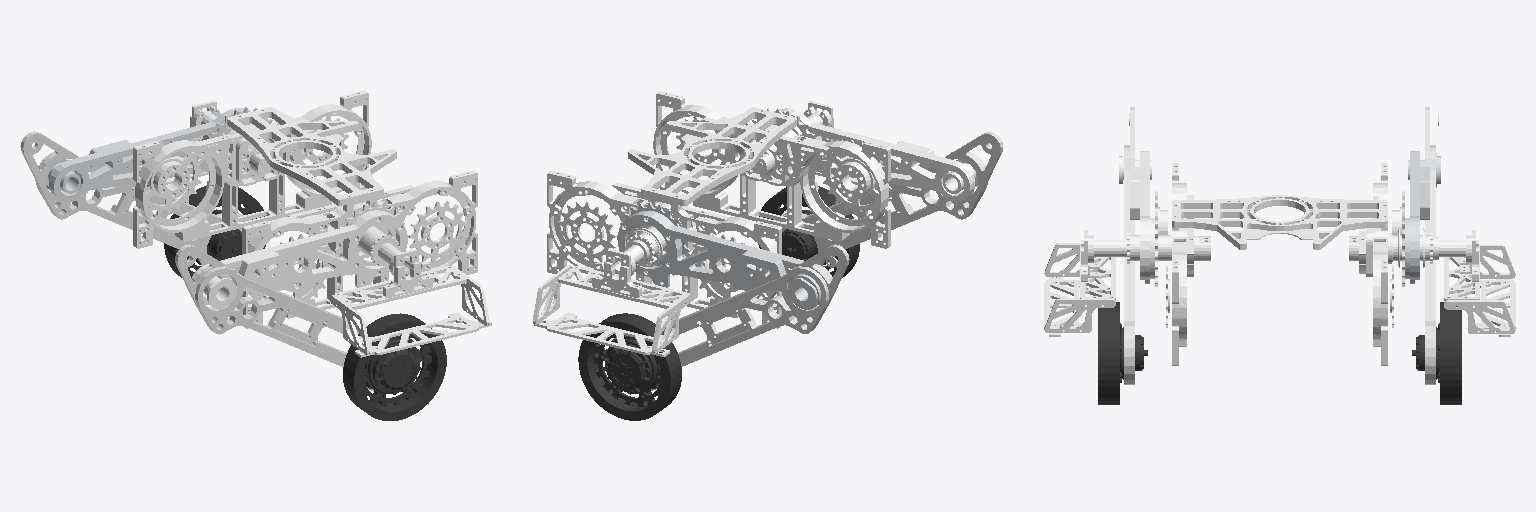
The robot description file, URDF, robot "rl_chassis_v11":
<?xml version="1.0" encoding="utf-8"?>
<!-- rl_chassis_v11 训练用串联模型（自动生成，勿手改：改 make_train_urdf.py）
     只保留后链 base -> rear_link(大腿) -> rear_child1(小腿) -> Wheel；
     前链（曲柄 + child1/2/3 + 两个销）已删除，真机是闭链、Isaac Gym 不支持，
     部署时用 rl/tools/leg_model.py 做虚拟腿映射。几何/惯量原样来自 rl_chassis_v11_std.urdf。 -->
<robot name="rl_chassis_v11">
  <link name="base_link">
    <inertial>
      <origin xyz="-0.0046559 0.0003412 0.090788" rpy="-1.5707963 0 1.5707963" />
      <mass value="15.6412" />
      <inertia ixx="0.08236235339" ixy="0.0001245969202" ixz="-1.028199787e-05" iyy="0.1527995878" iyz="-0.000231443683" izz="0.09199430558" />
    </inertial>
    <visual>
      <origin xyz="0 0 0" rpy="-1.5707963 0 1.5707963" />
      <geometry>
        <mesh filename="../meshes/base_link.STL" />
      </geometry>
      <material name="">
        <color rgba="1 1 1 0.25" />
      </material>
    </visual>
    <collision>
      <origin xyz="0 0 0" rpy="-1.5707963 0 1.5707963" />
      <geometry>
        <mesh filename="../meshes/base_link.STL" />
      </geometry>
    </collision>
  </link>
  <link name="Left_rear_link">
    <inertial>
      <origin xyz="-0.10384386 -0.00089227451 0.0081987714" rpy="3.141589 3.673196e-06 1.5730702" />
      <mass value="0.385404412043693" />
      <inertia ixx="0.002524151607" ixy="-4.842977512e-05" ixz="-2.404903569e-06" iyy="0.0001494360836" iyz="-0.0001526415186" izz="0.002612320627" />
    </inertial>
    <visual>
      <origin xyz="0 0 0" rpy="3.141589 3.673196e-06 1.5730702" />
      <geometry>
        <mesh filename="../meshes/Left_rear_link.STL" />
      </geometry>
      <material name="">
        <color rgba="0.898039215686275 0.917647058823529 0.929411764705882 1" />
      </material>
    </visual>
    <collision>
      <origin xyz="0 0 0" rpy="3.141589 3.673196e-06 1.5730702" />
      <geometry>
        <mesh filename="../meshes/Left_rear_link.STL" />
      </geometry>
    </collision>
  </link>
  <joint name="Left_rear_joint" type="revolute">
    <origin xyz="-0.001951 0.1515 0.11508" rpy="-1.5707963 0 0" />
    <parent link="base_link" />
    <child link="Left_rear_link" />
    <axis xyz="0 0 1" />
    <limit lower="-6.283185307179586" upper="6.283185307179586" effort="40" velocity="1000" />
  </joint>
  <link name="Left_rear_child1_link">
    <inertial>
      <origin xyz="0.10391615 0.065343452 0.0054596195" rpy="-3.1415915 -5.059306e-06 -1.0081298" />
      <mass value="0.187774529973075" />
      <inertia ixx="0.001792193365" ixy="8.908801083e-06" ixz="-3.974423369e-07" iyy="7.838139344e-05" iyz="-1.302343444e-06" izz="0.001866267375" />
    </inertial>
    <visual>
      <origin xyz="0 0 0" rpy="-3.1415915 -5.059306e-06 -1.0081298" />
      <geometry>
        <mesh filename="../meshes/Left_rear_child1_link.STL" />
      </geometry>
      <material name="">
        <color rgba="0.929411764705882 0.929411764705882 0.929411764705882 1" />
      </material>
    </visual>
    <collision>
      <origin xyz="0 0 0" rpy="-3.1415915 -5.059306e-06 -1.0081298" />
      <geometry>
        <mesh filename="../meshes/Left_rear_child1_link.STL" />
      </geometry>
    </collision>
  </link>
  <joint name="Left_rear_child1_joint" type="revolute">
    <origin xyz="-0.21499951 -0.00048882211 0.017999212" rpy="0 0 0" />
    <parent link="Left_rear_link" />
    <child link="Left_rear_child1_link" />
    <axis xyz="0 0 1" />
    <limit lower="-6.283185307179586" upper="6.283185307179586" effort="40" velocity="1000" />
  </joint>
  <link name="Left_Wheel_link">
    <inertial>
      <origin xyz="0.00010620928 4.2472314e-06 0.0079509143" rpy="3.1415909 -4.889671e-06 -0.44305977" />
      <mass value="0.304045474548524" />
      <inertia ixx="0.0002882533236" ixy="-3.721727505e-07" ixz="-4.796590888e-07" iyy="0.0002879143376" iyz="2.513604943e-07" izz="0.0004951986725" />
    </inertial>
    <visual>
      <origin xyz="0 0 0" rpy="3.1415909 -4.889671e-06 -0.44305977" />
      <geometry>
        <mesh filename="../meshes/Left_Wheel_link.STL" />
      </geometry>
      <material name="">
        <color rgba="0.298039215686275 0.298039215686275 0.298039215686275 1" />
      </material>
    </visual>
    <collision>
      <origin xyz="0 0 0" rpy="3.1415909 -4.889671e-06 -0.44305977" />
      <geometry>
        <mesh filename="../meshes/Left_Wheel_link.STL" />
      </geometry>
    </collision>
  </link>
  <joint name="Left_Wheel_joint" type="revolute">
    <origin xyz="0.21484219 0.13549473 0.017550293" rpy="0 0 0" />
    <parent link="Left_rear_child1_link" />
    <child link="Left_Wheel_link" />
    <axis xyz="0 0 1" />
    <limit lower="-6.283185307179586" upper="6.283185307179586" effort="20" velocity="1000" />
  </joint>
  <link name="Right_rear_link">
    <inertial>
      <origin xyz="-0.1038438 0.00089233461 0.0081995277" rpy="-3.664853e-06 -3.673196e-06 -1.5730702" />
      <mass value="0.385404412043693" />
      <inertia ixx="0.002486447913" ixy="-5.250141042e-05" ixz="2.818298659e-06" iyy="0.0001483070126" iyz="0.0001337665065" izz="0.002580609369" />
    </inertial>
    <visual>
      <origin xyz="0 0 0" rpy="-3.664853e-06 -3.673196e-06 -1.5730702" />
      <geometry>
        <mesh filename="../meshes/Right_rear_link.STL" />
      </geometry>
      <material name="">
        <color rgba="1 1 1 1" />
      </material>
    </visual>
    <collision>
      <origin xyz="0 0 0" rpy="-3.664853e-06 -3.673196e-06 -1.5730702" />
      <geometry>
        <mesh filename="../meshes/Right_rear_link.STL" />
      </geometry>
    </collision>
  </link>
  <joint name="Right_rear_joint" type="revolute">
    <origin xyz="-0.001951 -0.1515 0.11508" rpy="1.5707963 0 0" />
    <parent link="base_link" />
    <child link="Right_rear_link" />
    <axis xyz="0 0 1" />
    <limit lower="-6.283185307179586" upper="6.283185307179586" effort="40" velocity="1000" />
  </joint>
  <link name="Right_rear_child1_link">
    <inertial>
      <origin xyz="0.10391619 -0.065343412 0.005419583" rpy="1.151928e-06 5.059306e-06 1.0081298" />
      <mass value="0.187774529973075" />
      <inertia ixx="0.001791187399" ixy="8.959222055e-06" ixz="4.279881626e-07" iyy="7.836742727e-05" iyz="1.562033912e-06" izz="0.001865281397" />
    </inertial>
    <visual>
      <origin xyz="0 0 0" rpy="1.151928e-06 5.059306e-06 1.0081298" />
      <geometry>
        <mesh filename="../meshes/Right_rear_child1_link.STL" />
      </geometry>
      <material name="">
        <color rgba="0.929411764705882 0.929411764705882 0.929411764705882 1" />
      </material>
    </visual>
    <collision>
      <origin xyz="0 0 0" rpy="1.151928e-06 5.059306e-06 1.0081298" />
      <geometry>
        <mesh filename="../meshes/Right_rear_child1_link.STL" />
      </geometry>
    </collision>
  </link>
  <joint name="Right_rear_child1_joint" type="revolute">
    <origin xyz="-0.21499938 0.00048895405 0.018000788" rpy="0 0 0" />
    <parent link="Right_rear_link" />
    <child link="Right_rear_child1_link" />
    <axis xyz="0 0 1" />
    <limit lower="-6.283185307179586" upper="6.283185307179586" effort="40" velocity="1000" />
  </joint>
  <link name="Right_Wheel_link">
    <inertial>
      <origin xyz="0.00010626755 -4.1889003e-06 0.0079509128" rpy="-1.736269e-06 4.889671e-06 0.44305977" />
      <mass value="0.304045452873208" />
      <inertia ixx="0.0002882567036" ixy="-3.746691016e-07" ixz="4.800295874e-07" iyy="0.0002879126099" iyz="-2.643472578e-07" izz="0.0004952006237" />
    </inertial>
    <visual>
      <origin xyz="0 0 0" rpy="-1.736269e-06 4.889671e-06 0.44305977" />
      <geometry>
        <mesh filename="../meshes/Right_Wheel_link.STL" />
      </geometry>
      <material name="">
        <color rgba="0.298039215686275 0.298039215686275 0.298039215686275 1" />
      </material>
    </visual>
    <collision>
      <origin xyz="0 0 0" rpy="-1.736269e-06 4.889671e-06 0.44305977" />
      <geometry>
        <mesh filename="../meshes/Right_Wheel_link.STL" />
      </geometry>
    </collision>
  </link>
  <joint name="Right_Wheel_joint" type="revolute">
    <origin xyz="0.21484232 -0.1354946 0.017549707" rpy="0 0 0" />
    <parent link="Right_rear_child1_link" />
    <child link="Right_Wheel_link" />
    <axis xyz="0 0 1" />
    <limit lower="-6.283185307179586" upper="6.283185307179586" effort="20" velocity="1000" />
  </joint>
</robot>

--- What the picture shows (computed from the rendered views, not written in the file) ---
Views: 3 orthographic renders of the robot side by side, from view 1: azimuth 30°, elevation 25°; view 2: azimuth 150°, elevation 25°; view 3: azimuth 270°, elevation 25°.
Model rl_chassis_v11 with 7 links and 6 joints (6 revolute), rooted at base_link, posed every joint at zero.
Visible links, largest first — view 1: base_link, Right_rear_link, Right_Wheel_link, Right_rear_child1_link, Left_rear_link, Left_rear_child1_link, Left_Wheel_link; view 2: base_link, Left_rear_link, Left_Wheel_link, Left_rear_child1_link, Right_rear_link, Right_rear_child1_link, Right_Wheel_link; view 3: base_link, Right_Wheel_link, Left_Wheel_link, Left_rear_link, Right_rear_link, Right_rear_child1_link, Left_rear_child1_link.
Link boxes in pixels (x1,y1,x2,y2): base_link: [132, 91, 491, 357]; Right_rear_link: [192, 202, 407, 309]; Right_Wheel_link: [343, 313, 446, 420]; Right_rear_child1_link: [175, 244, 410, 391]; Left_rear_link: [46, 107, 272, 201]; Left_rear_child1_link: [20, 131, 248, 276]; Left_Wheel_link: [164, 185, 265, 277]; base_link: [533, 91, 891, 356]; Left_rear_link: [617, 202, 832, 309]; Left_Wheel_link: [578, 313, 681, 420]; Left_rear_child1_link: [614, 244, 849, 390]; Right_rear_link: [752, 108, 977, 201]; Right_rear_child1_link: [775, 132, 1002, 276]; Right_Wheel_link: [758, 186, 859, 277]; base_link: [1044, 163, 1515, 365]; Right_Wheel_link: [1098, 302, 1147, 404]; Left_Wheel_link: [1412, 302, 1461, 404]; Left_rear_link: [1402, 151, 1440, 286]; Right_rear_link: [1119, 151, 1157, 286]; Right_rear_child1_link: [1124, 107, 1134, 384]; Left_rear_child1_link: [1425, 107, 1438, 384].
Bounding box of the posed robot: 0.4167 × 0.5494 × 0.2576 m (x, y, z).
Meshes: 7 distinct files referenced, 7 mesh visuals loaded (7 binary STL).
